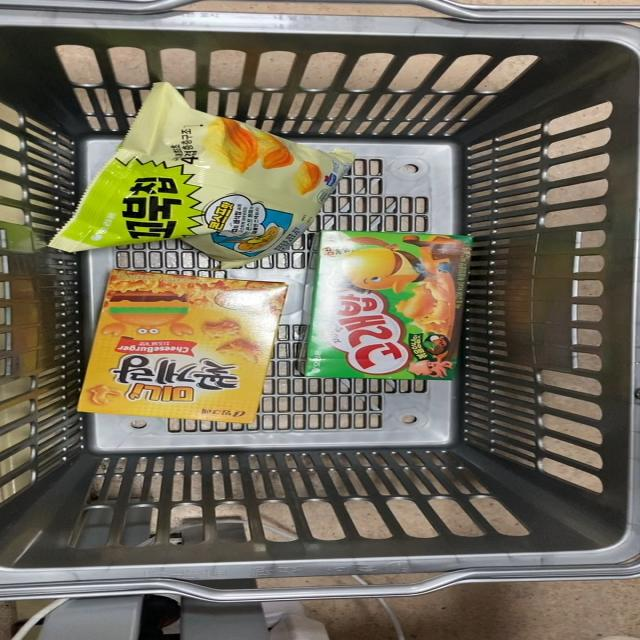ggobukchip: (46, 94, 323, 253)
goraebob: (283, 226, 491, 375)
minicrab: (78, 269, 287, 430)
